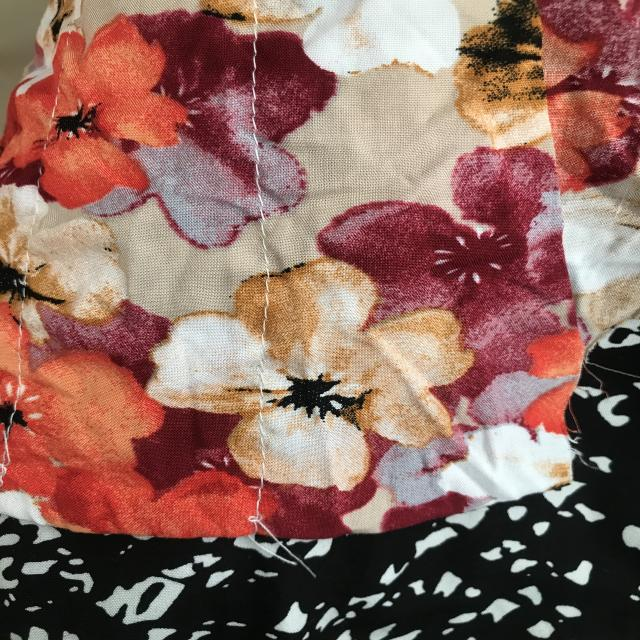good: (247, 32, 260, 149)
